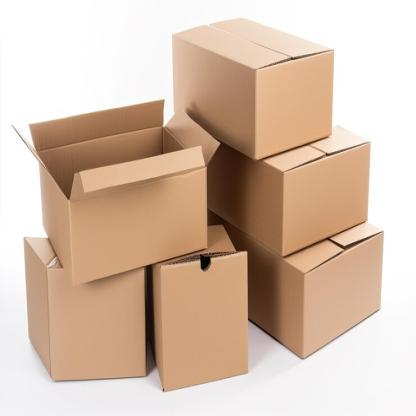box: (72, 168, 208, 285), (160, 250, 248, 393), (47, 258, 144, 380), (302, 229, 384, 359), (282, 141, 370, 257), (256, 48, 333, 163)
